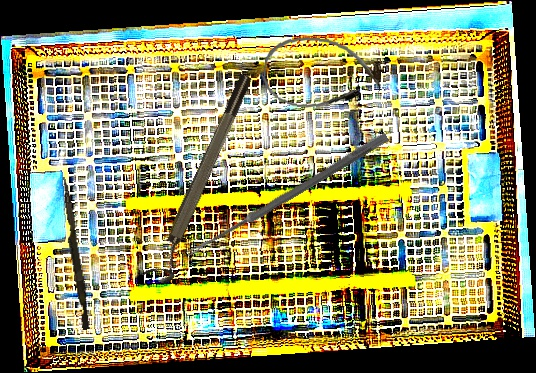Cannula: (260, 33, 385, 115)
Fixation Ring: (143, 72, 264, 287)
Pusher: (56, 176, 94, 331)
Surgical Spoon: (184, 131, 390, 260)
